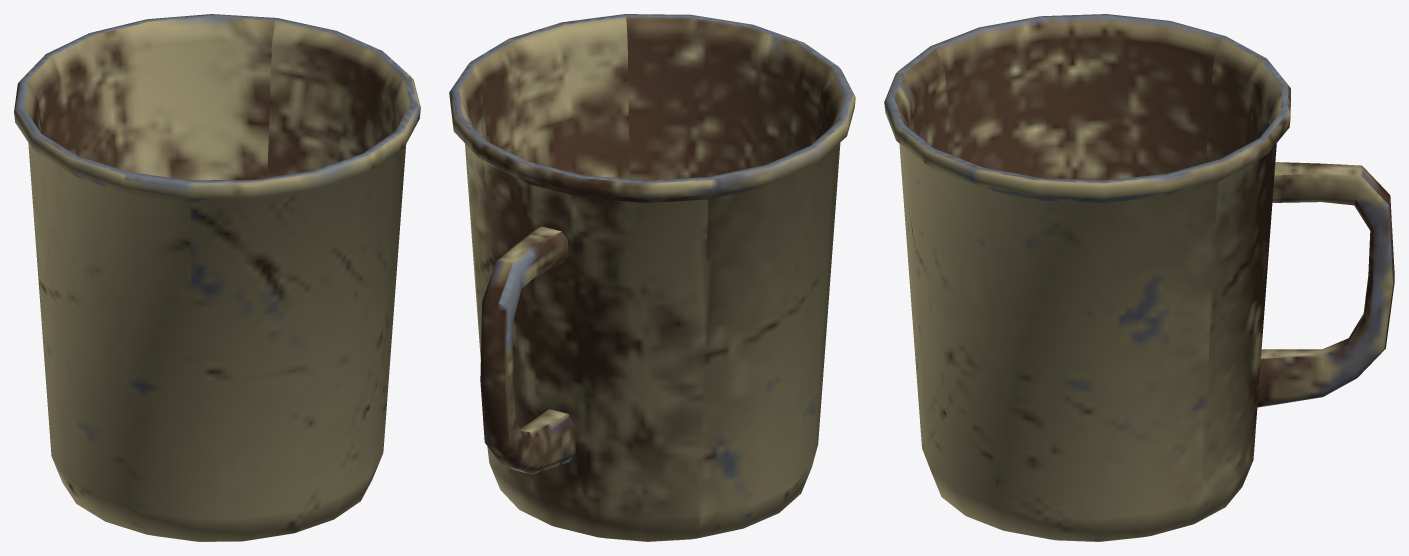
The model's file is SM_Mug_Kitchen.glb.
3 renders of one model, left to right at view 1: azimuth 30°, elevation 25°; view 2: azimuth 150°, elevation 25°; view 3: azimuth 270°, elevation 25°, orthographic.
Parts seen in each view (by area): view 1: SM_TInCup_Kitchen; view 2: SM_TInCup_Kitchen; view 3: SM_TInCup_Kitchen.
Part boxes in pixels (box(x1,y1,x2,y2)): SM_TInCup_Kitchen: box(14, 14, 420, 541); SM_TInCup_Kitchen: box(449, 14, 855, 541); SM_TInCup_Kitchen: box(884, 14, 1394, 541).
Size of the model in its own units: 0.0817 by 0.0862 by 0.1026.
1 material, 1 textured.
